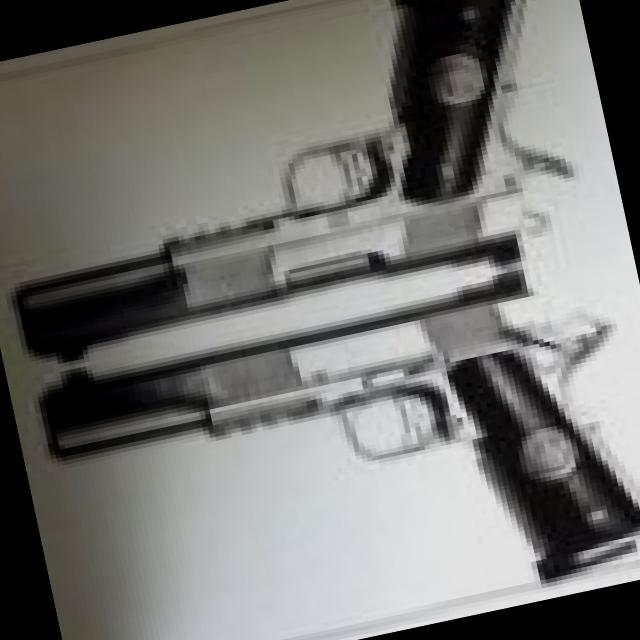handgun: (37, 252, 639, 639)
